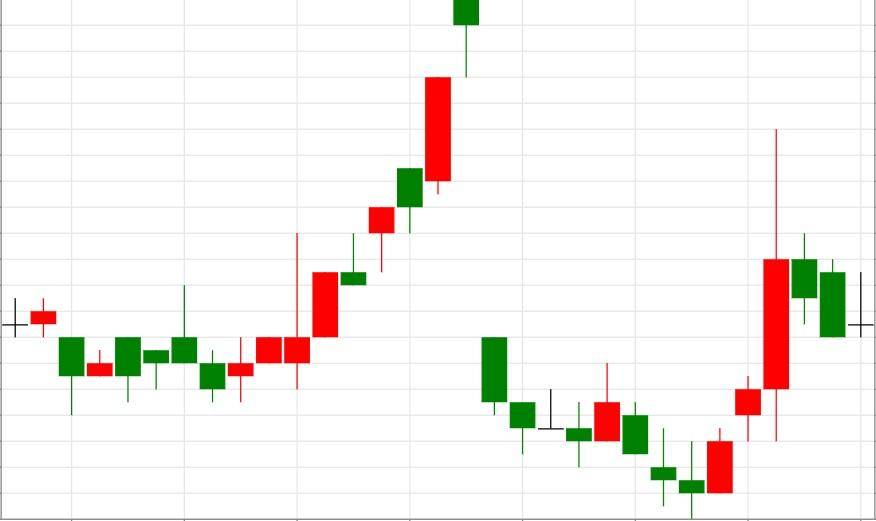hanging_man_fall: (198, 0, 480, 403)
